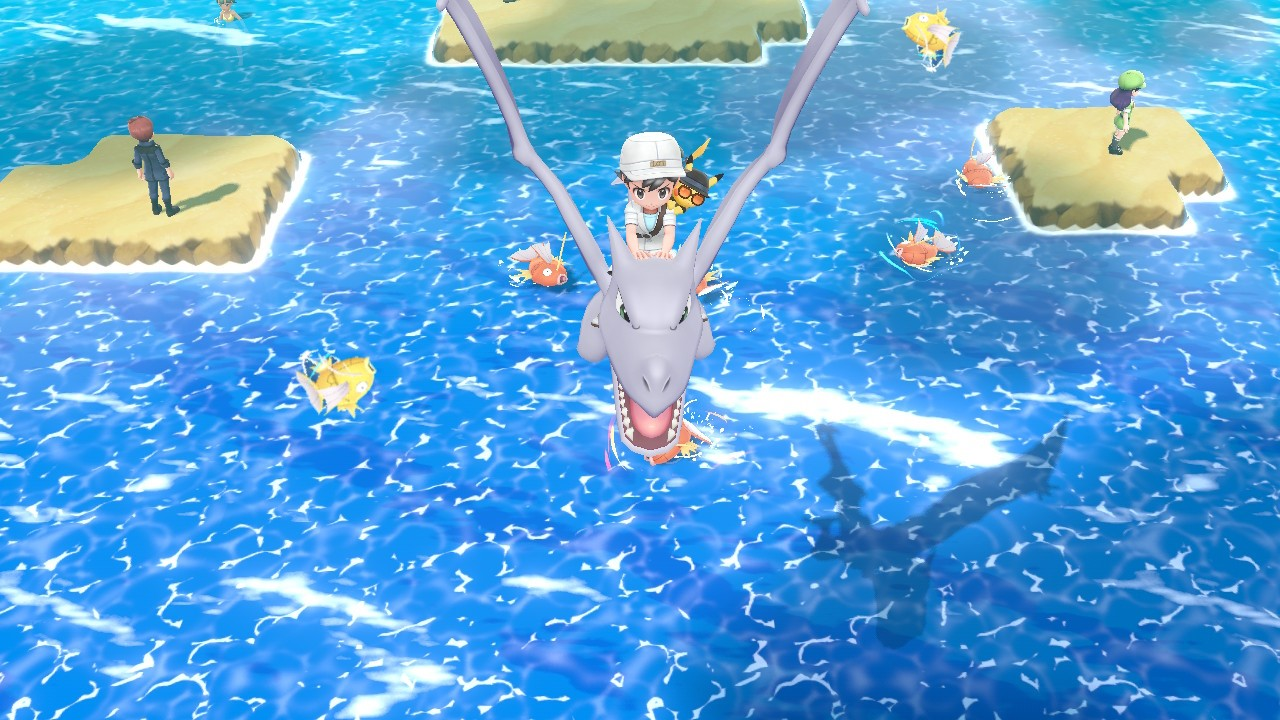Golden: (291, 353, 378, 419), (900, 11, 961, 67)
